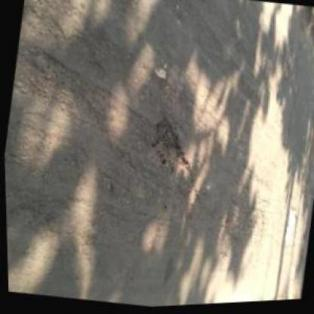Hueco: (140, 114, 197, 181)
